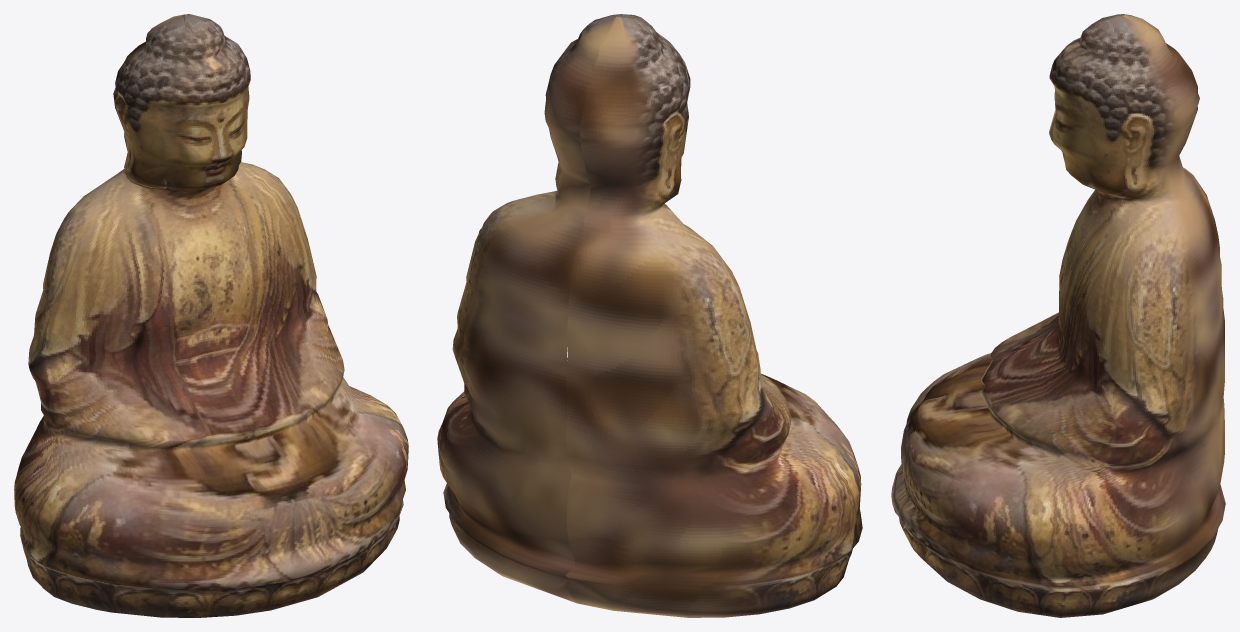
Rendered from seven-1.glb.
3 views of the same model, side by side, from view 1: azimuth 30°, elevation 25°; view 2: azimuth 150°, elevation 25°; view 3: azimuth 270°, elevation 25° (orthographic). The views are drawn at different scales.
Visible parts, largest first — view 1: seven-1; view 2: seven-1; view 3: seven-1.
Part boxes in pixels (bbox=[...]): seven-1: bbox=[14, 14, 408, 617]; seven-1: bbox=[437, 14, 862, 617]; seven-1: bbox=[891, 14, 1225, 617].
Size of the model in its own units: 0.7391 by 1 by 0.5754.
Materials: 1 (1 with a texture image).
